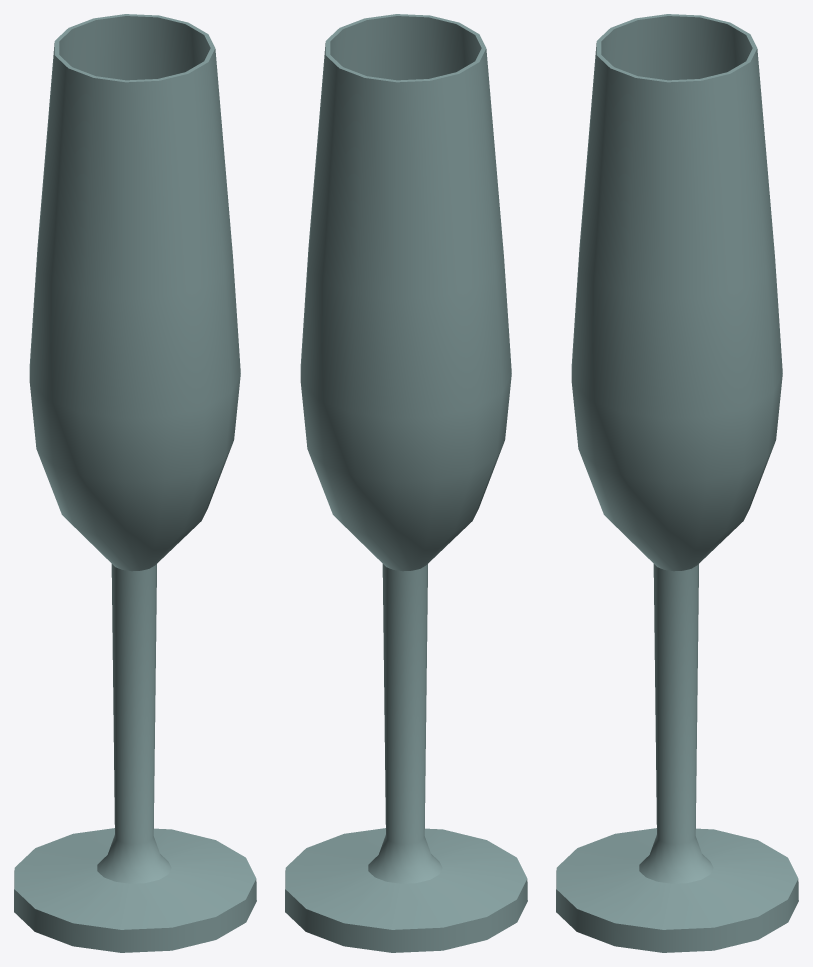
File: copa.fbx
3 renders of one model, left to right at view 1: azimuth 30°, elevation 25°; view 2: azimuth 150°, elevation 25°; view 3: azimuth 270°, elevation 25°, orthographic.
Visible parts, largest first — view 1: Copa; view 2: Copa; view 3: Copa.
Part boxes in pixels (x1=…): Copa: x1=14, y1=14, x2=256, y2=952; Copa: x1=285, y1=14, x2=527, y2=952; Copa: x1=556, y1=14, x2=798, y2=952.
Size of the model in its own units: 91.86 by 354 by 91.36.
